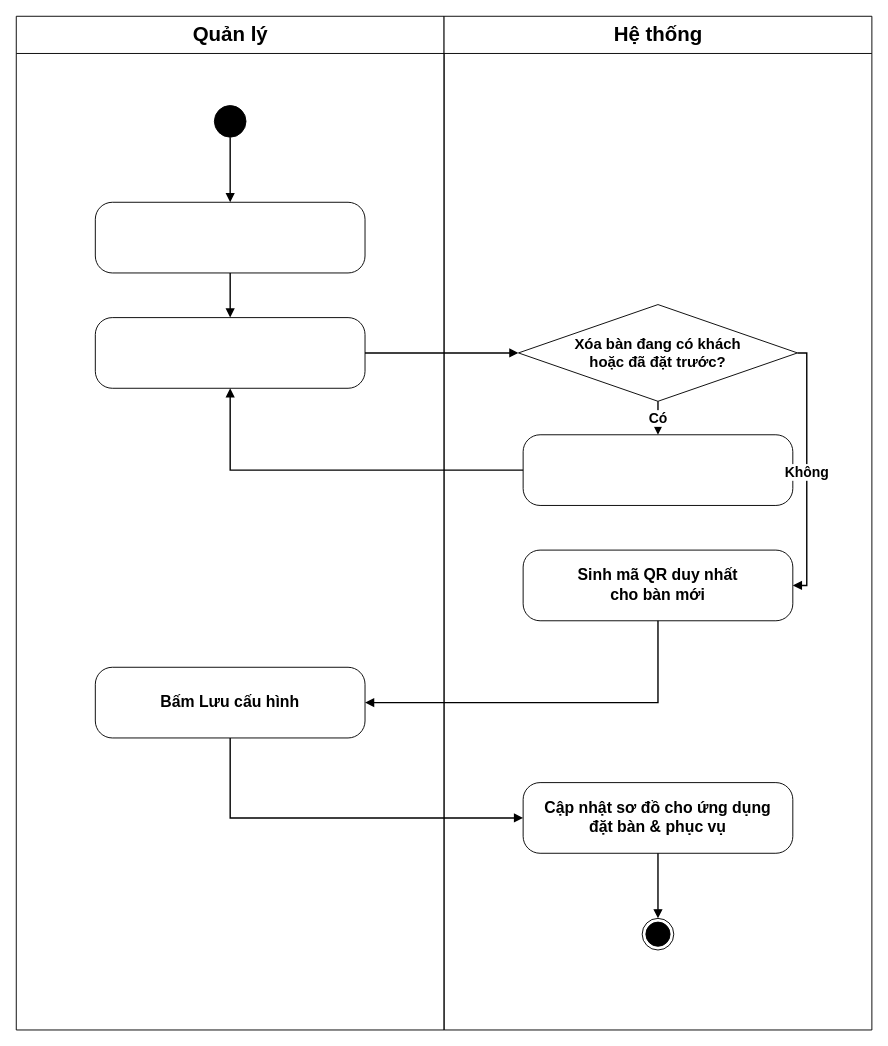
This 888x1046 diagram has some shape labels left out. The centre of each missing label's shape, as x and y in pixels:
"Mở giao diện thiết kế sơ đồ mặt bằng" belongs at (x=229, y=237).
"Thêm / xóa bàn, kéo thả vị trí, số ghế theo khu vực (Sảnh chính, VIP, Ban công)" belongs at (x=229, y=352).
"Từ chối, yêu cầu chuyển khách trước" belongs at (x=657, y=469).
